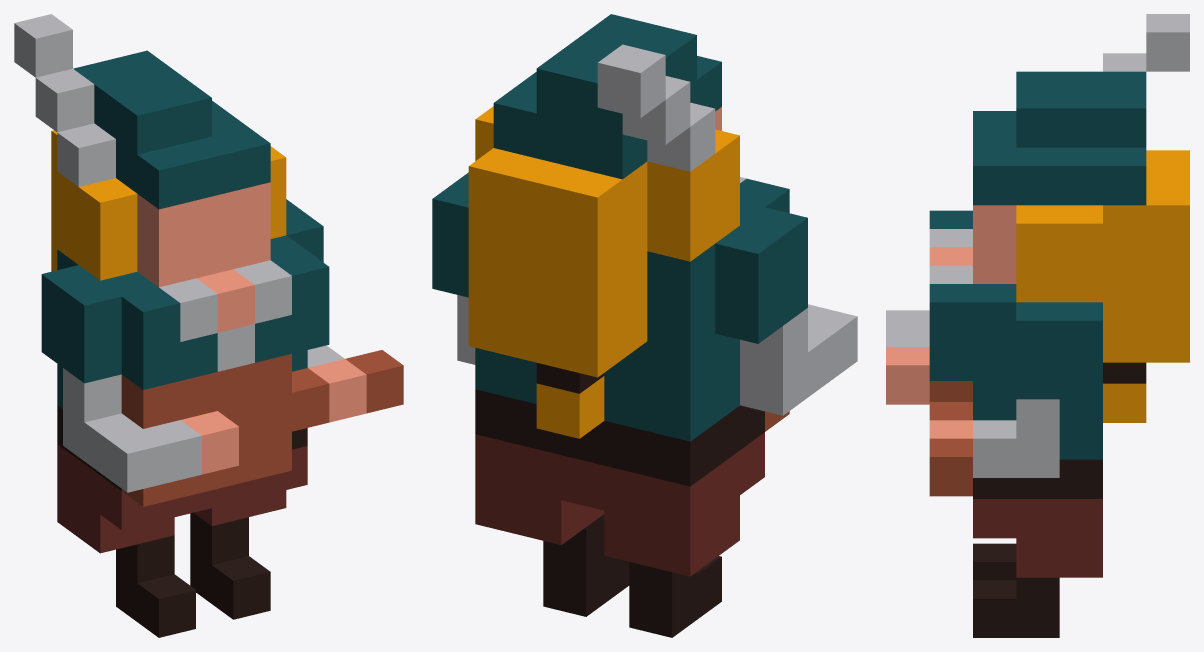
Rendered from bard_action_1.obj.
3 views of the same model, side by side, from view 1: azimuth 30°, elevation 25°; view 2: azimuth 150°, elevation 25°; view 3: azimuth 270°, elevation 25° (orthographic). The views are drawn at different scales.
Size of the model in its own units: 0.8 by 1.4 by 0.7.
Materials: 1 (1 with a texture image).
